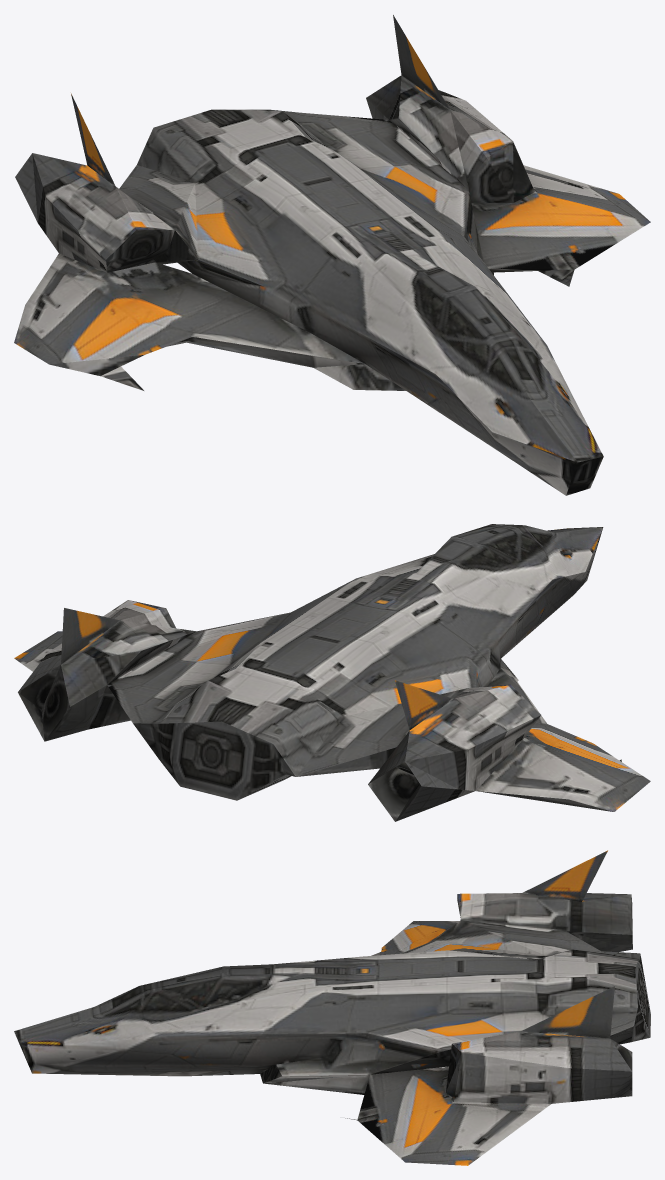
File: fighter-far.glb
3 views of the same model, one above another, from view 1: azimuth 30°, elevation 25°; view 2: azimuth 150°, elevation 25°; view 3: azimuth 270°, elevation 25° (orthographic). The views are drawn at different scales.
Visible parts, largest first — view 1: Low; view 2: Low; view 3: Low.
Part boxes in pixels (left/top/right/bottom): Low: left=14, top=15, right=650, bottom=495; Low: left=14, top=524, right=650, bottom=821; Low: left=14, top=850, right=650, bottom=1165.
Bounding box in the file's own units: 1.63 × 0.4956 × 1.79.
1 material, 1 textured.
